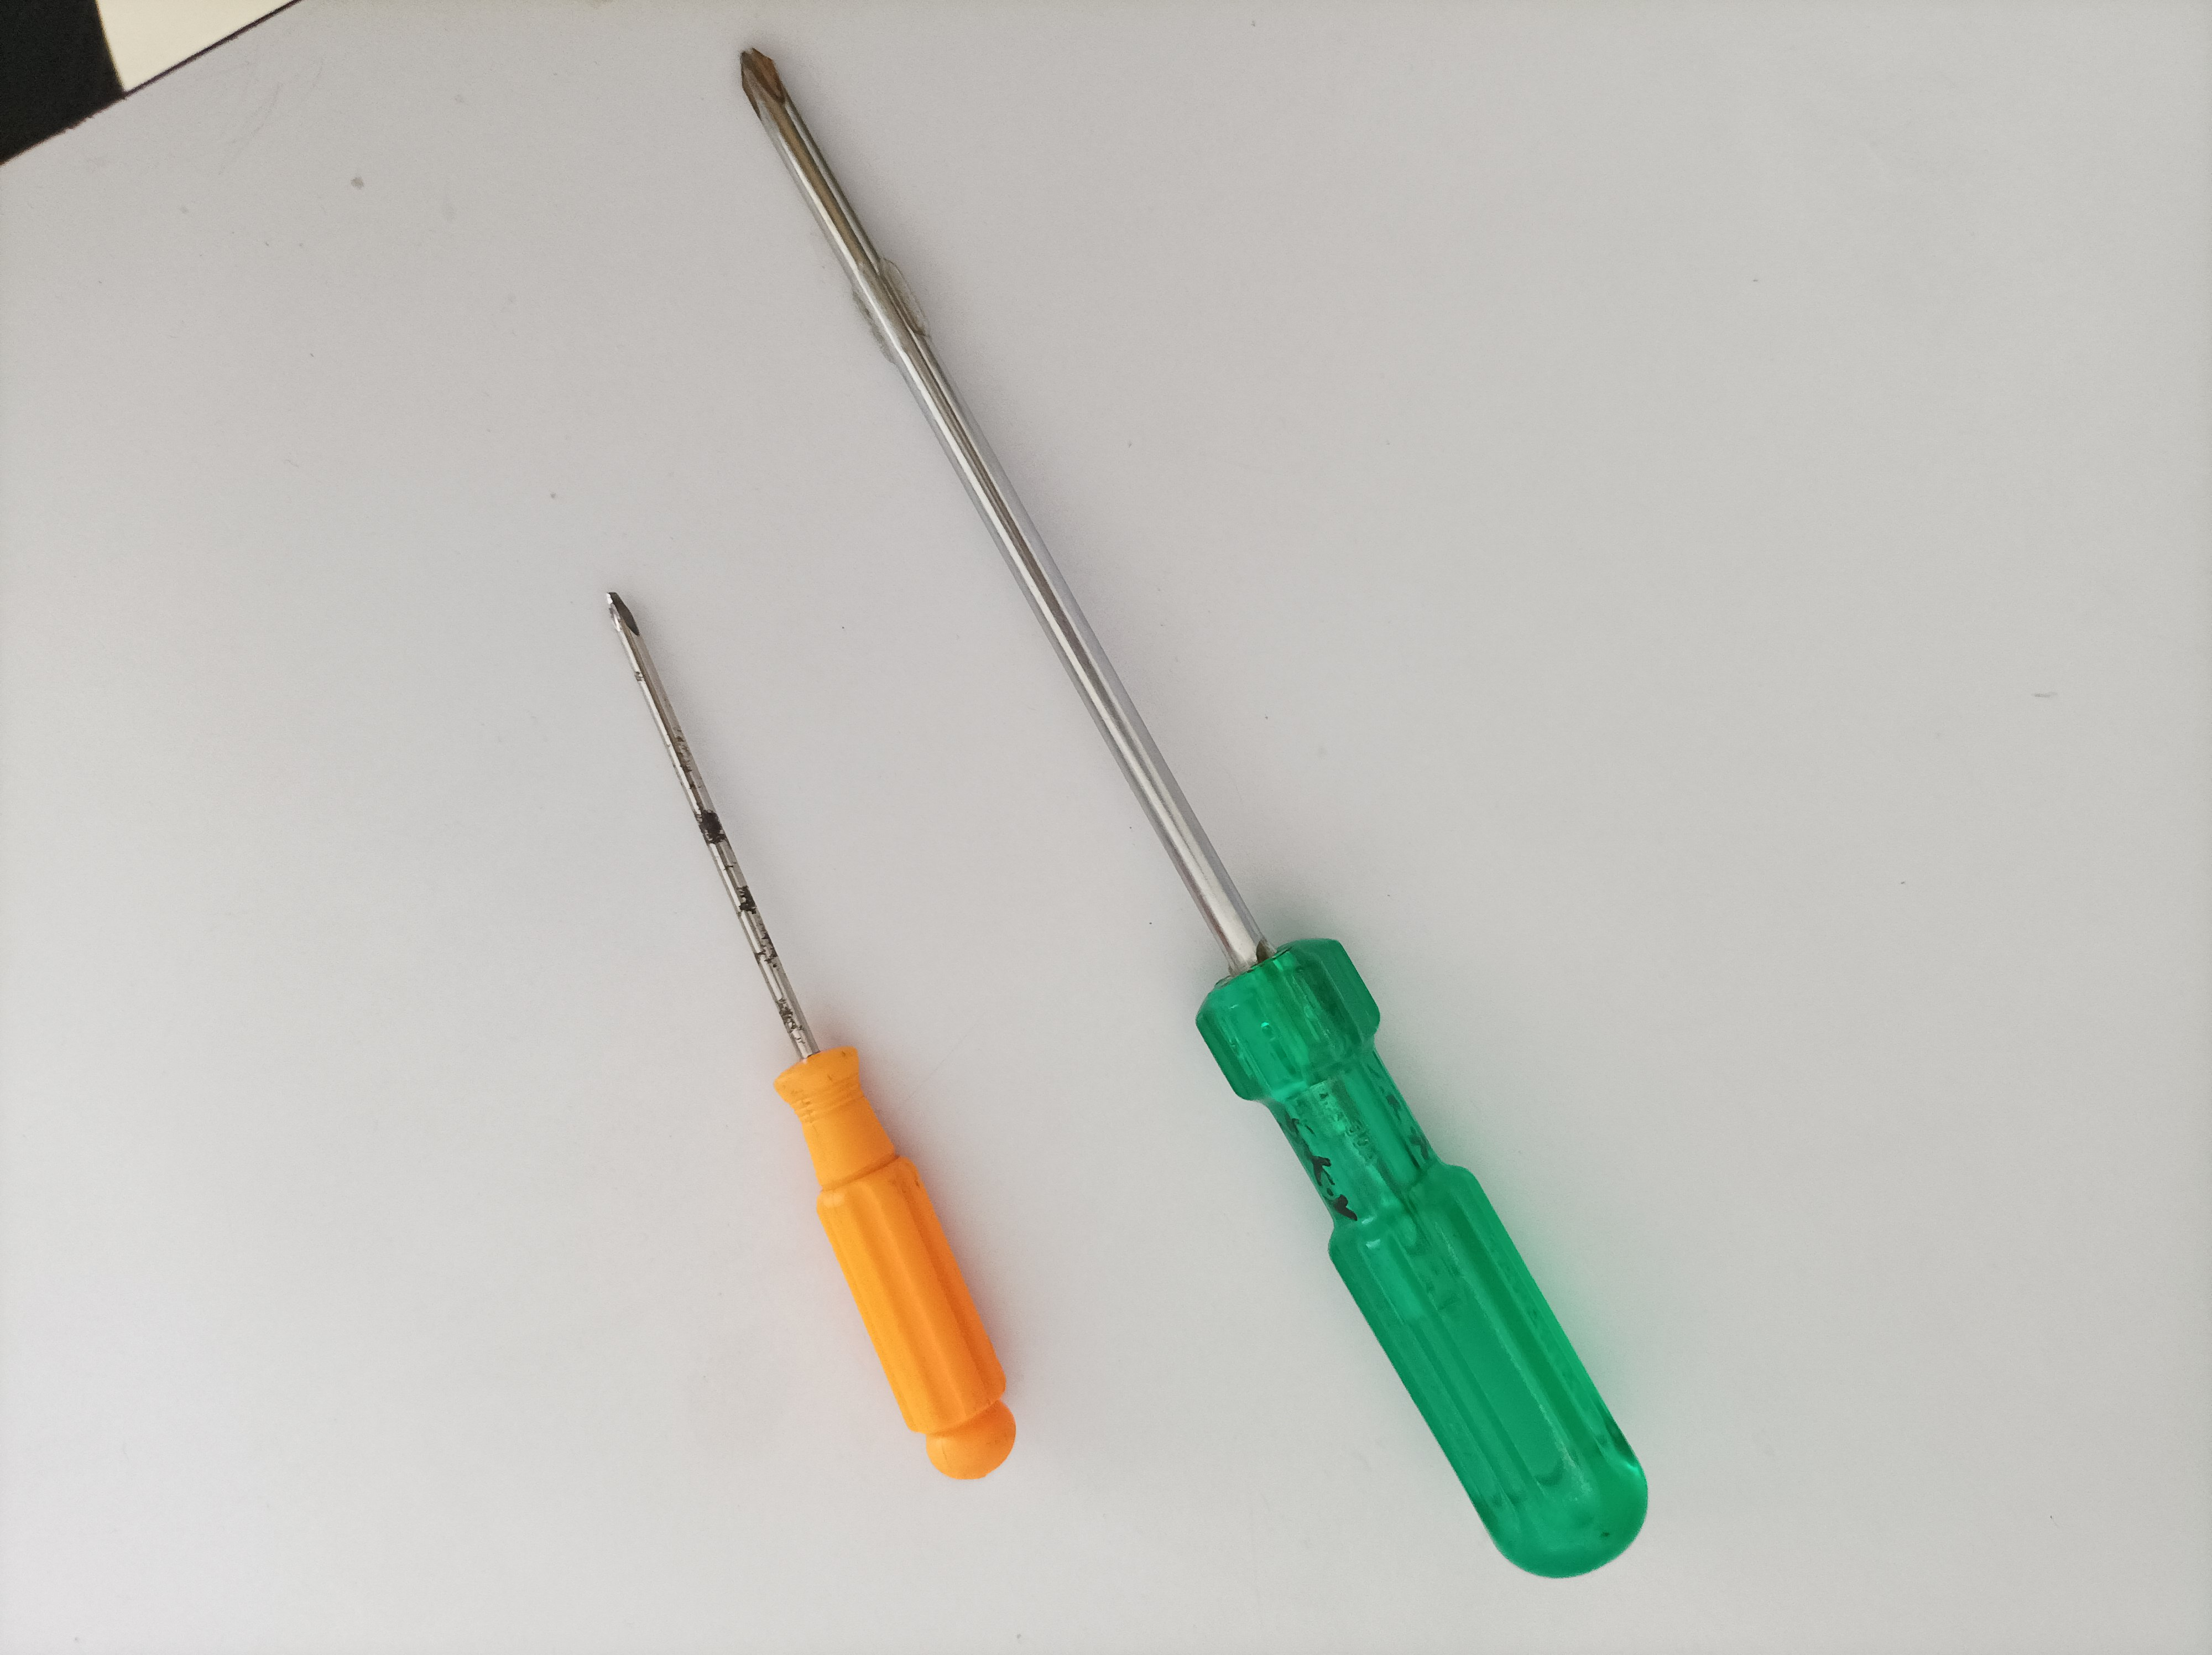screwdriver: (726, 42, 1659, 1591), (598, 582, 1030, 1497)
